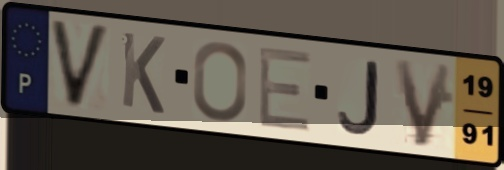E: (256, 44, 315, 136)
J: (336, 59, 382, 137)
K: (118, 28, 168, 118)
O: (190, 39, 250, 124)
V: (46, 17, 114, 113), (389, 56, 457, 150)
